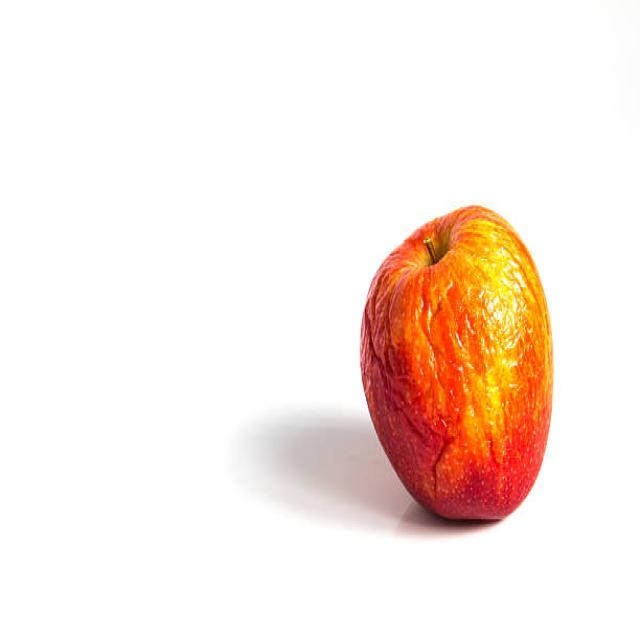overripe: (352, 197, 561, 530)
